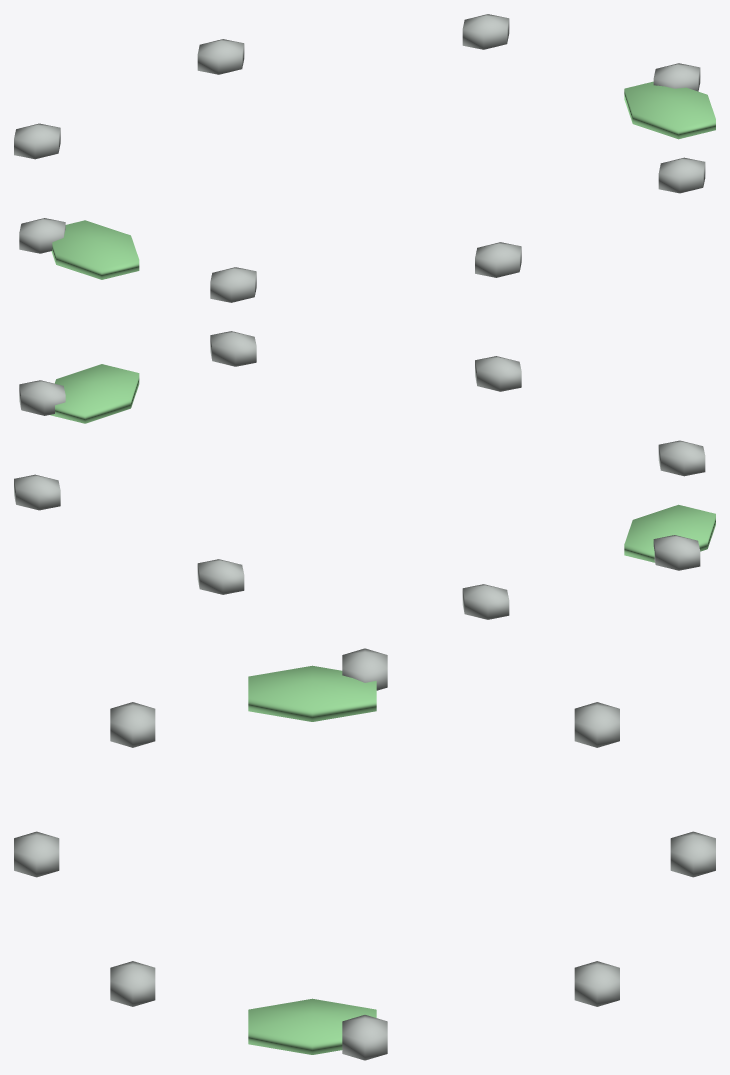
Rendered from foundation_summer_low.glb.
3 views of the same model, one above another, from view 1: azimuth 30°, elevation 25°; view 2: azimuth 150°, elevation 25°; view 3: azimuth 270°, elevation 25° (orthographic). The views are drawn at different scales.
Bounding box in the file's own units: 3.54 × 0.16 × 2.67.
